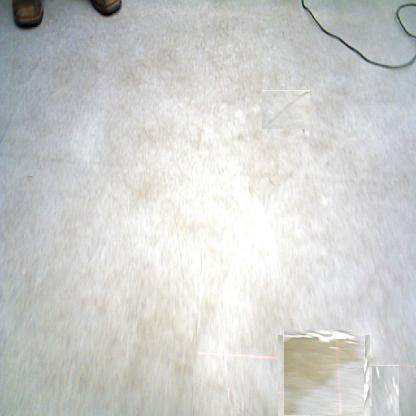liquid: (280, 332, 367, 416), (371, 365, 399, 416)
mark: (265, 88, 308, 132), (25, 174, 33, 180)
